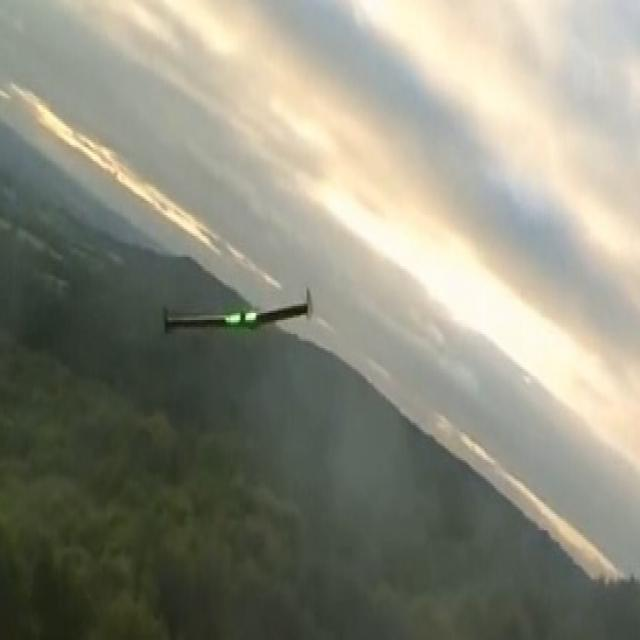plane: (161, 285, 312, 335)
